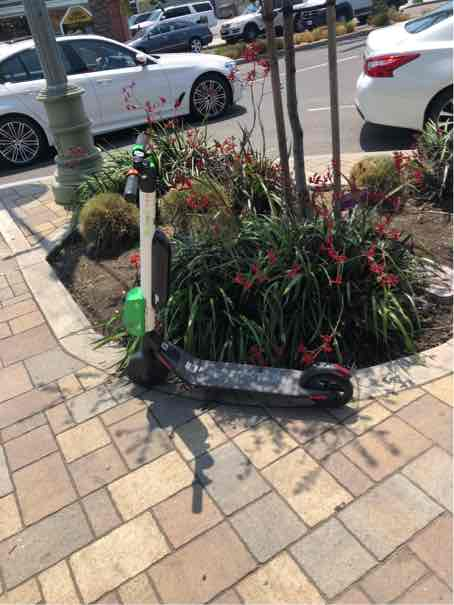scooter: (118, 88, 421, 362)
